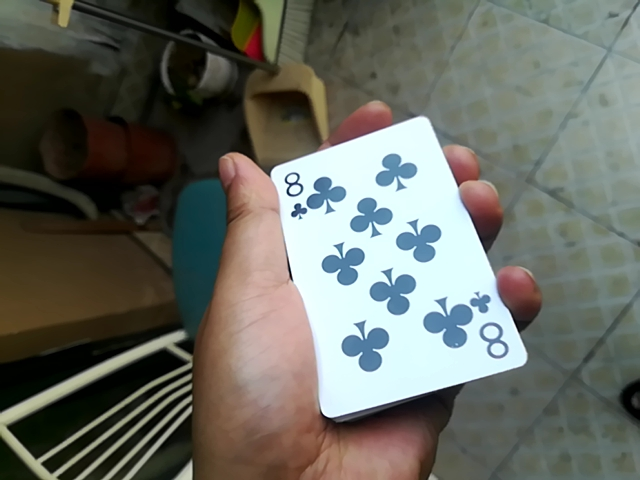mh 8: (260, 104, 527, 420)
